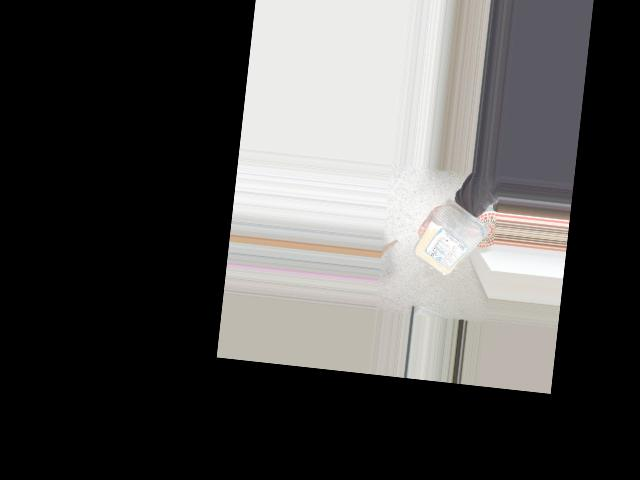cheese: (416, 203, 485, 281)
